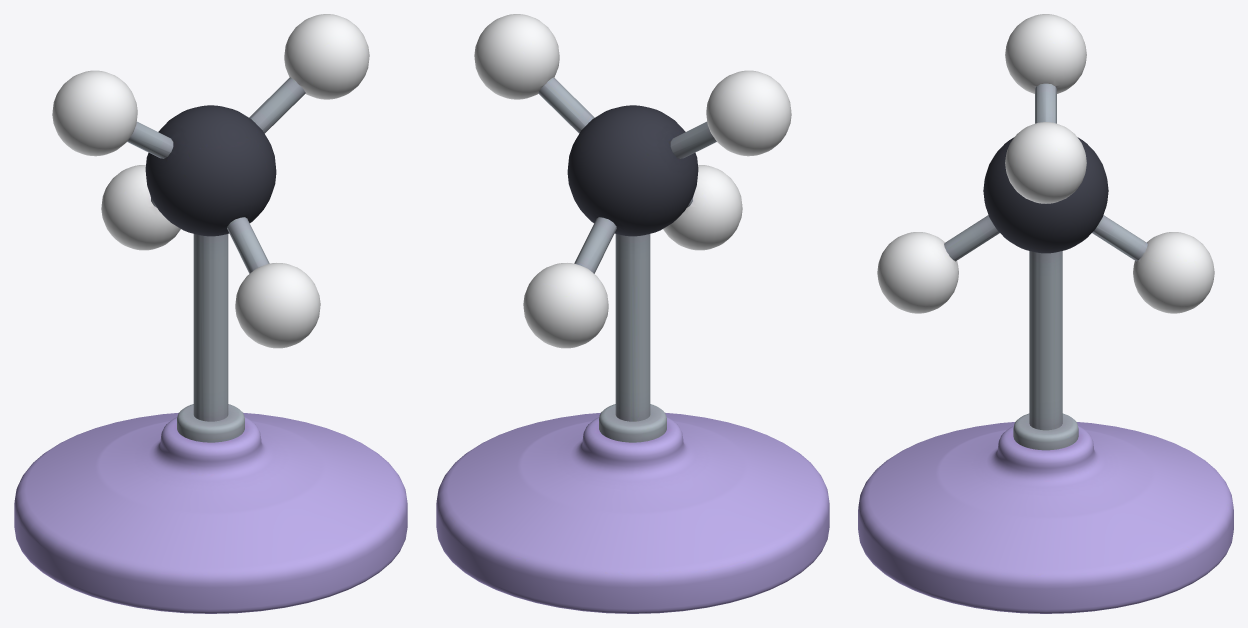
Rendered from molecule-tetrahedral.glb.
The picture shows the model from 3 angles, left to right: view 1: azimuth 30°, elevation 25°; view 2: azimuth 150°, elevation 25°; view 3: azimuth 270°, elevation 25°; orthographic projection. The views are drawn at different scales.
Visible parts, largest first — view 1: methane-molecule_body; view 2: methane-molecule_body; view 3: methane-molecule_body.
Part boxes in pixels (x1,y1,x2,y2): methane-molecule_body: (14, 14, 407, 613); methane-molecule_body: (436, 14, 829, 613); methane-molecule_body: (858, 14, 1233, 613).
Bounding box in the file's own units: 0.09 × 0.1229 × 0.09.
1 material, 1 textured.
